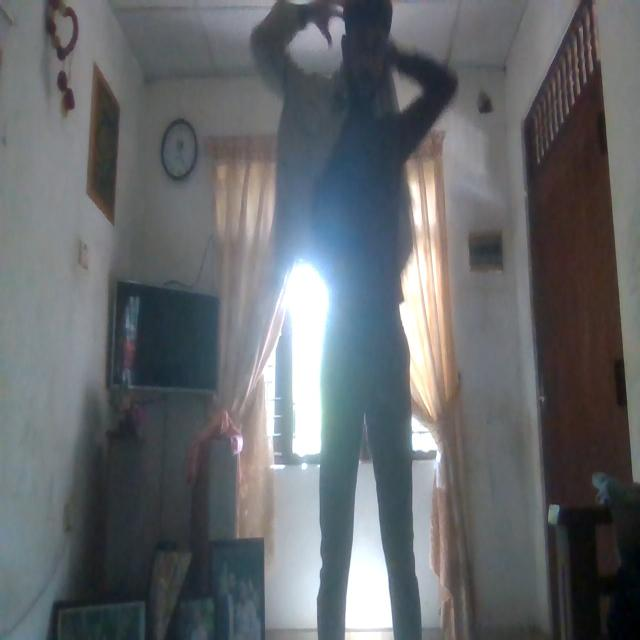Jacket_Wearer: (270, 66, 424, 334)
Person: (268, 0, 436, 640)
